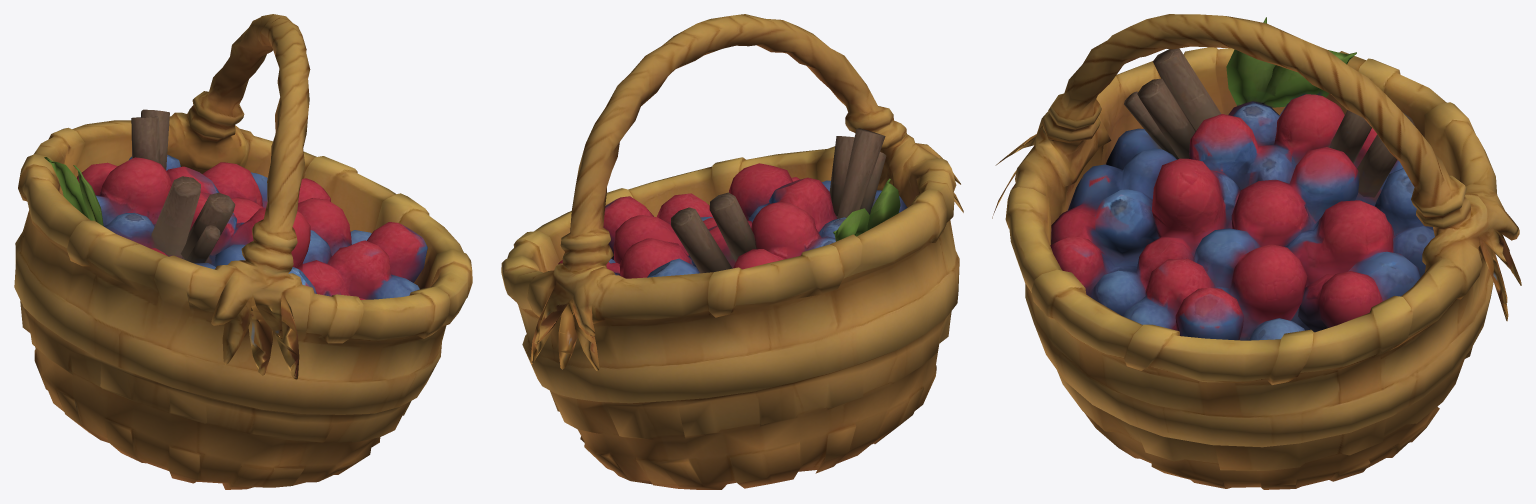
Rendered from fruit_basket_3d_model.glb.
The picture shows the model from 3 angles, left to right: view 1: azimuth 30°, elevation 25°; view 2: azimuth 150°, elevation 25°; view 3: azimuth 270°, elevation 25°; orthographic projection. The views are drawn at different scales.
Parts seen in each view (by area): view 1: tripo_node_bc113833-76b9-4262-bc04-32ad50de1118; view 2: tripo_node_bc113833-76b9-4262-bc04-32ad50de1118; view 3: tripo_node_bc113833-76b9-4262-bc04-32ad50de1118.
Part boxes in pixels (box(x1,y1,x2,y2)): tripo_node_bc113833-76b9-4262-bc04-32ad50de1118: box(14, 14, 472, 489); tripo_node_bc113833-76b9-4262-bc04-32ad50de1118: box(501, 14, 963, 489); tripo_node_bc113833-76b9-4262-bc04-32ad50de1118: box(992, 14, 1521, 489).
Bounding box in the file's own units: 0.9199 × 0.9277 × 0.998.
Materials: 1 (1 with a texture image).
